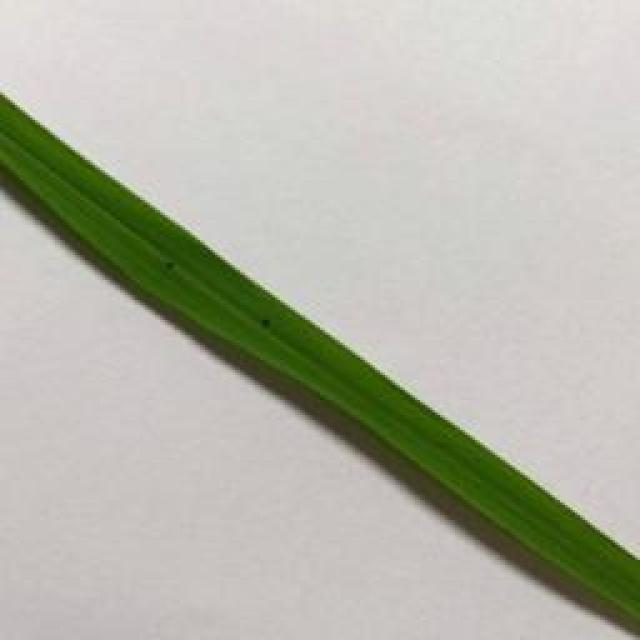Brown_Spot: (152, 249, 186, 292), (244, 314, 287, 339)
